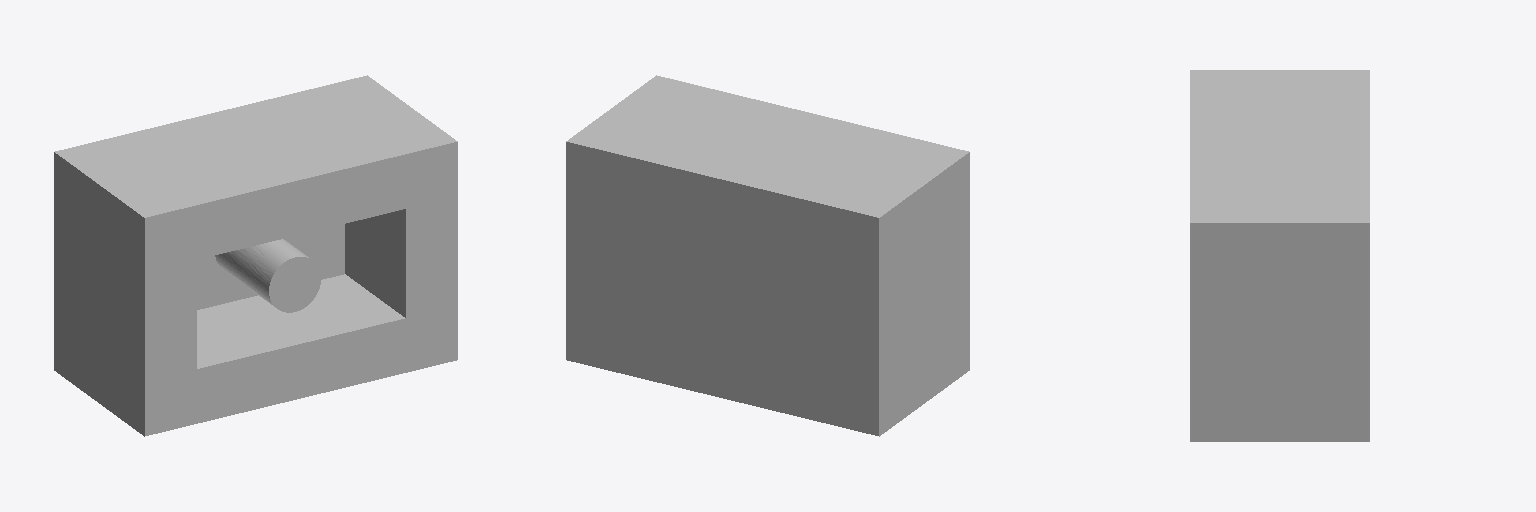
Rendered from tank45.obj.
The picture shows the model from 3 angles: view 1: azimuth 30°, elevation 25°; view 2: azimuth 150°, elevation 25°; view 3: azimuth 270°, elevation 25°; orthographic projection.
Bounding box in the file's own units: 3 × 2 × 1.5.